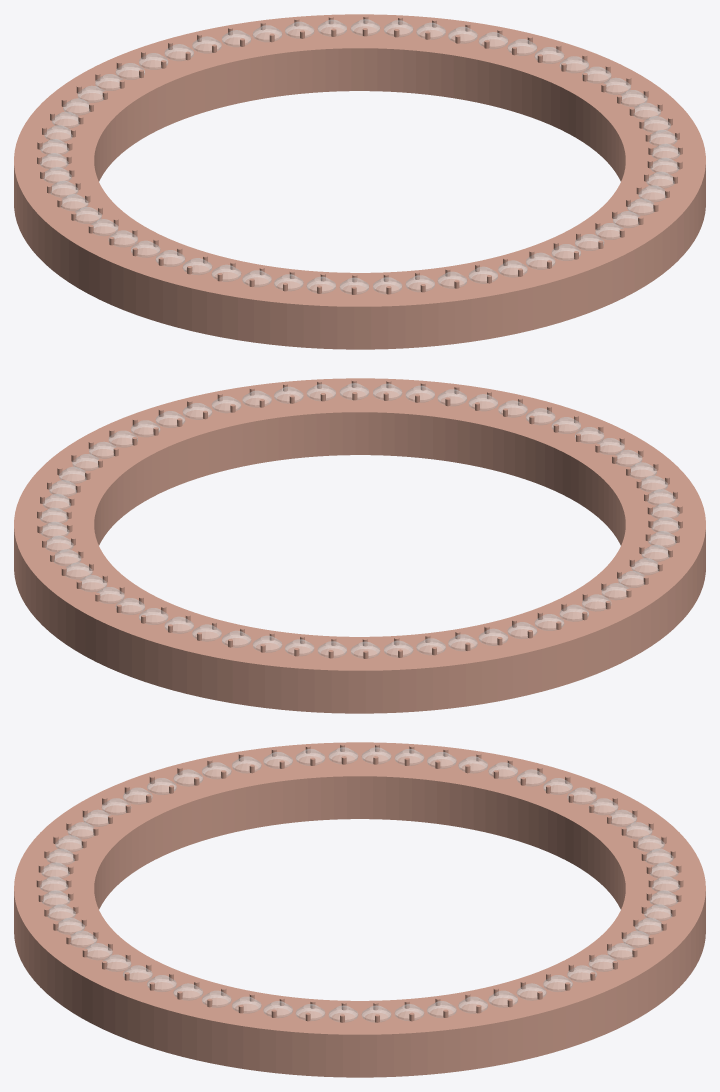
File: bezel-diamond-rose-gold-42.glb
The picture shows the model from 3 angles, top to bottom: view 1: azimuth 30°, elevation 25°; view 2: azimuth 150°, elevation 25°; view 3: azimuth 270°, elevation 25°; orthographic projection.
Parts seen in each view (by area): view 1: DD_BEZEL_CARRIER_ROSE_GOLD; view 2: DD_BEZEL_CARRIER_ROSE_GOLD; view 3: DD_BEZEL_CARRIER_ROSE_GOLD.
Part boxes in pixels (x1,y1,x2,y2): DD_BEZEL_CARRIER_ROSE_GOLD: [14, 14, 705, 349]; DD_BEZEL_CARRIER_ROSE_GOLD: [14, 378, 705, 713]; DD_BEZEL_CARRIER_ROSE_GOLD: [14, 742, 705, 1077].
Bounding box in the file's own units: 41 × 3.4 × 41.
